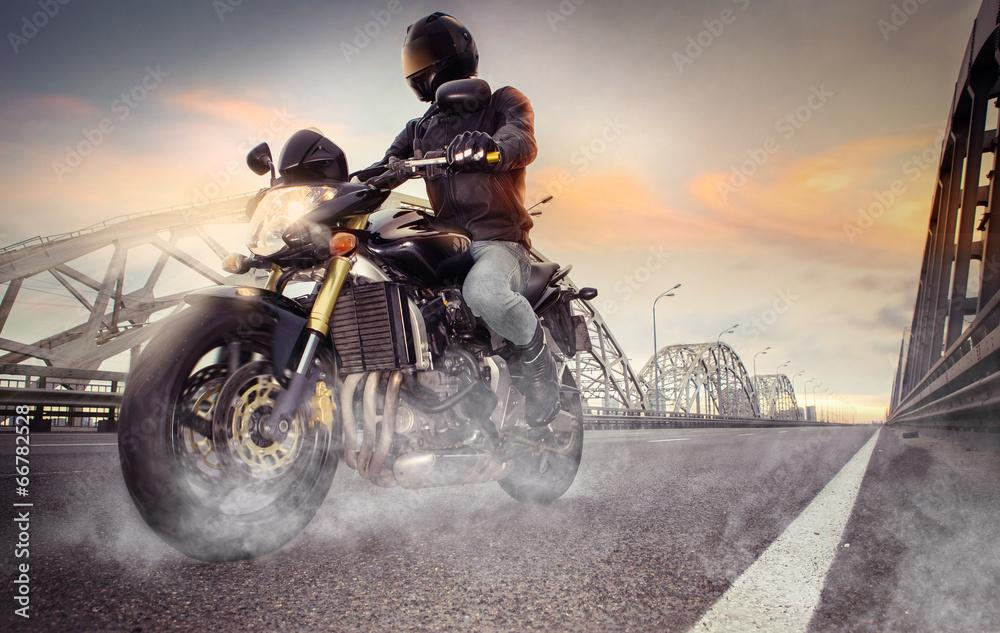helmet: (400, 11, 480, 104)
